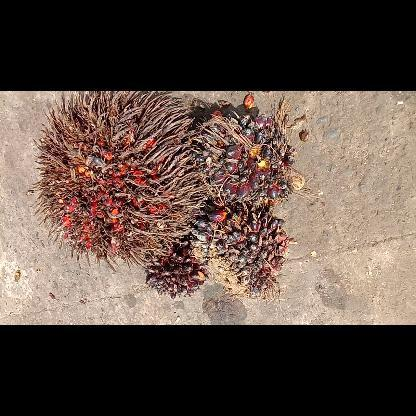TBS abnormal: (184, 107, 306, 210), (188, 200, 291, 300), (144, 234, 209, 300)
Terlalu masak: (28, 90, 210, 270)
